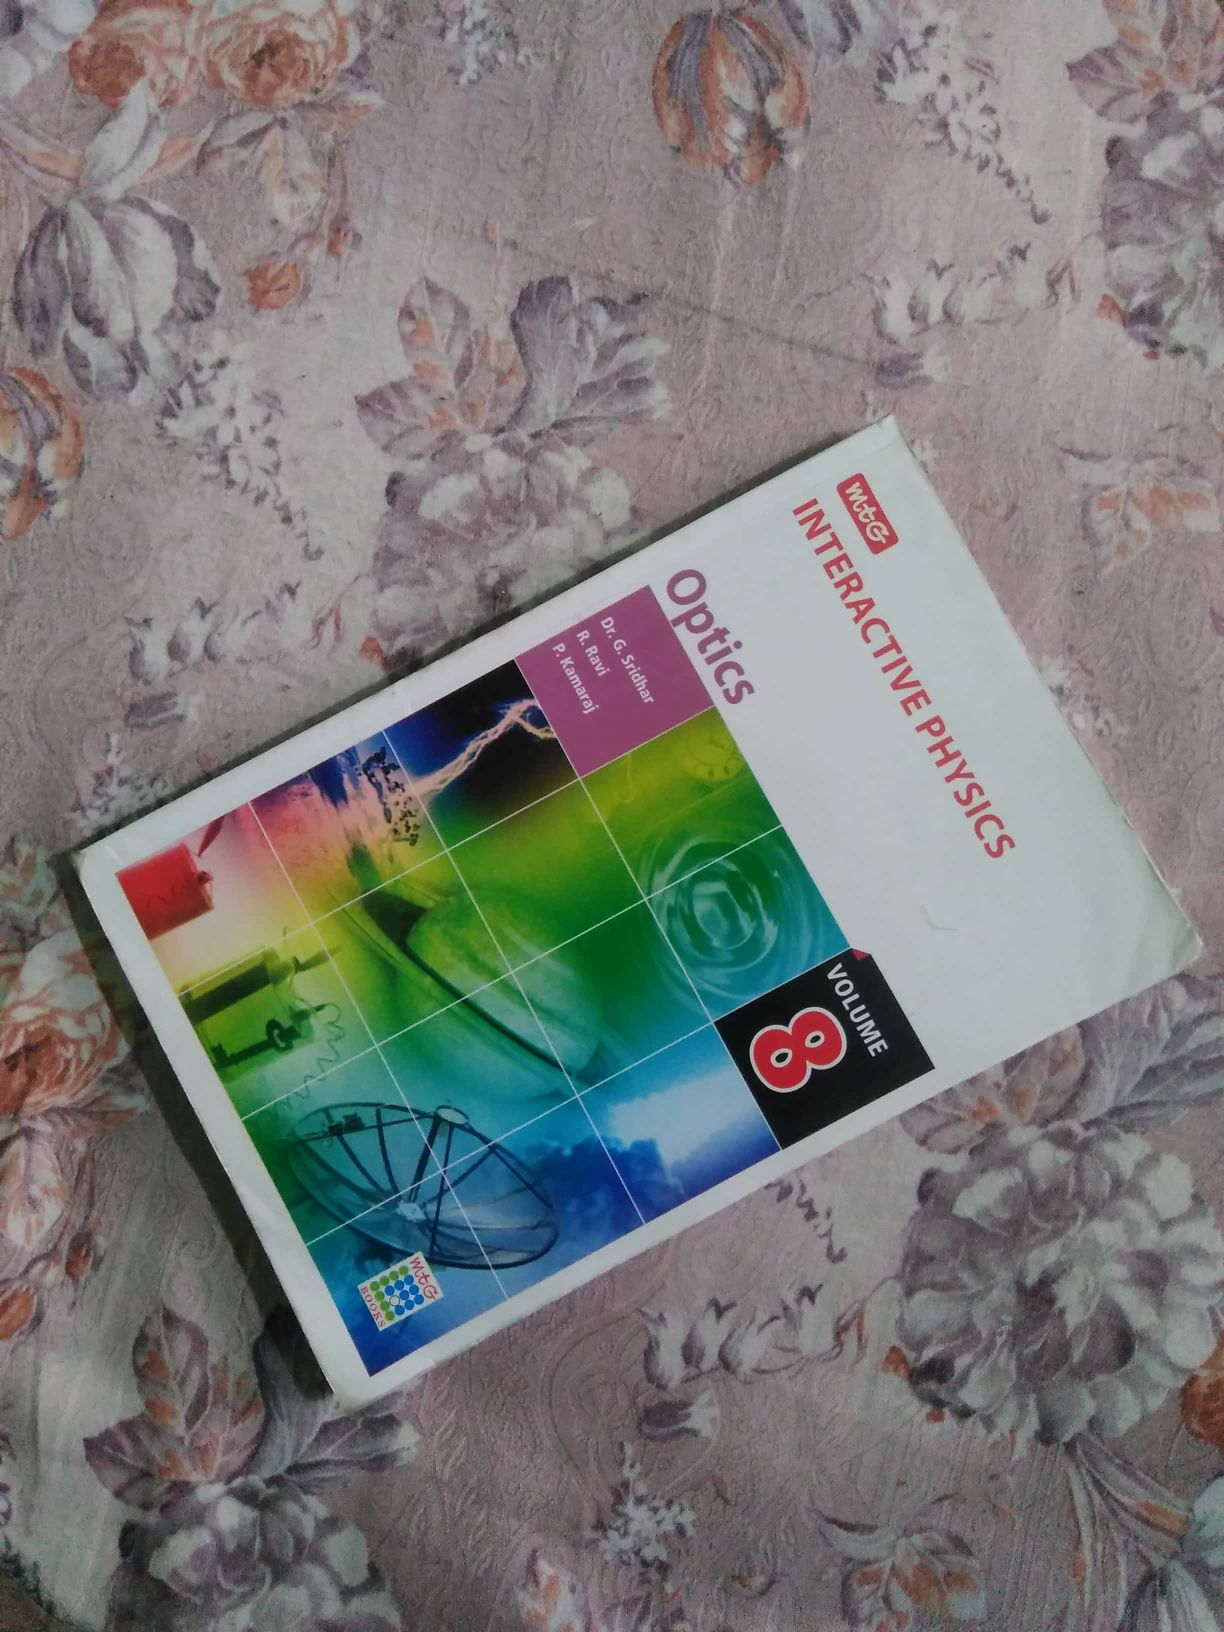optics: (107, 443, 1175, 1369)
